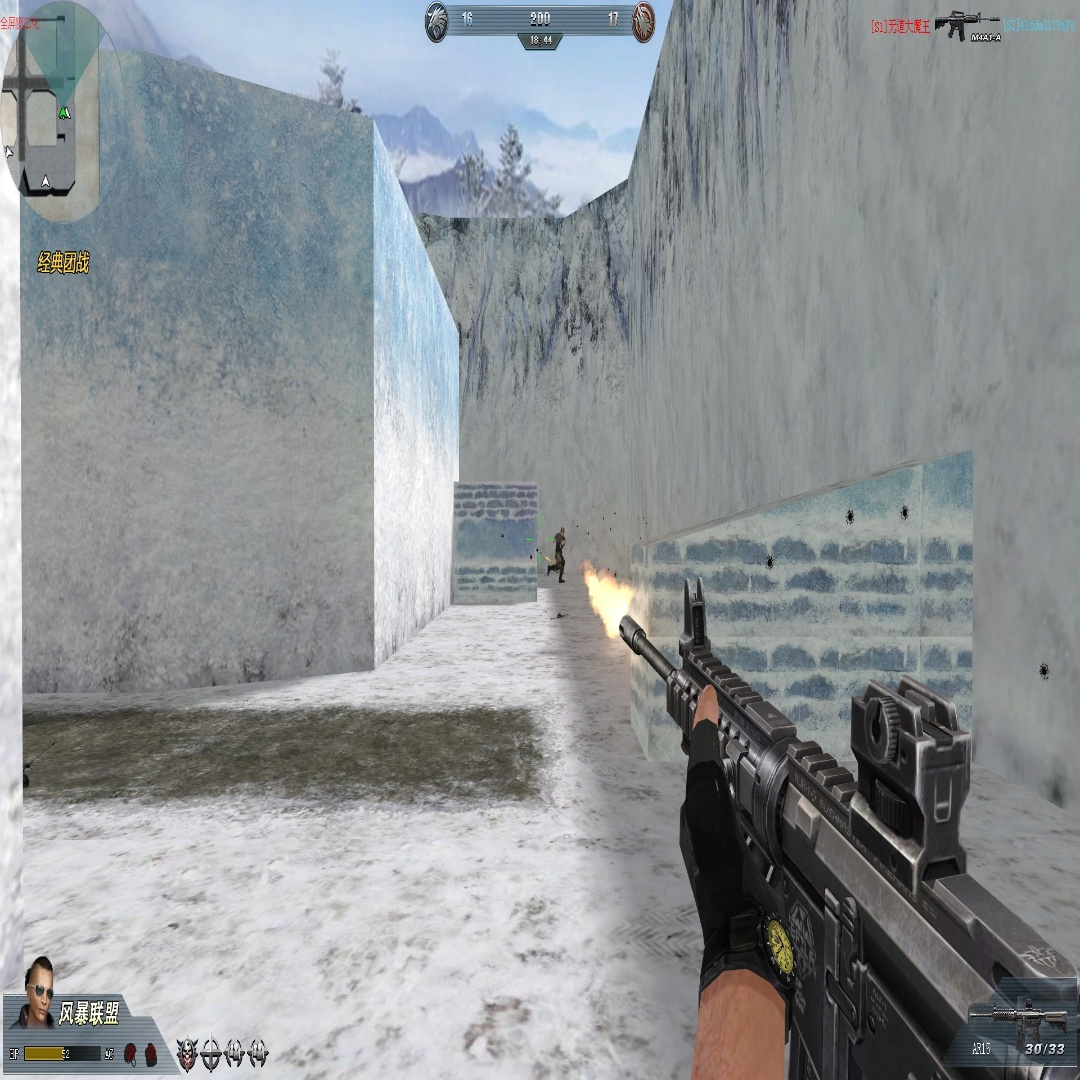ct: (549, 527, 566, 579)
